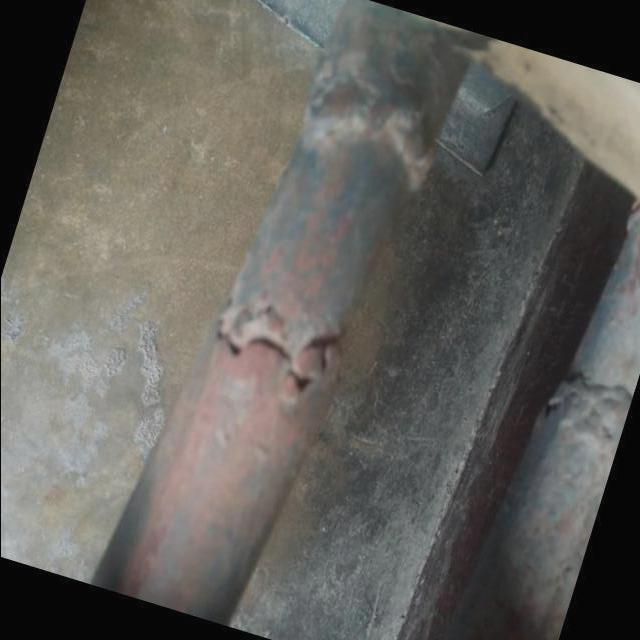defect: (208, 311, 335, 395)
